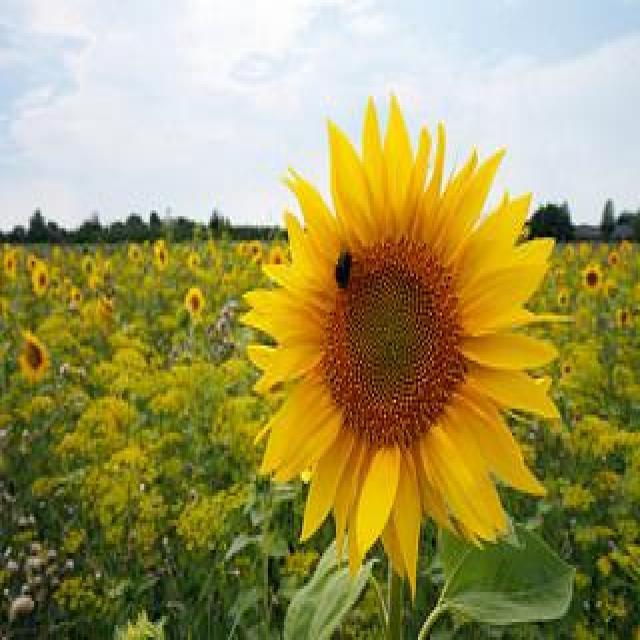sunflower: (241, 93, 574, 606), (20, 327, 47, 380), (33, 262, 49, 295), (584, 264, 602, 293), (154, 241, 170, 272), (187, 286, 203, 316), (268, 247, 284, 265), (128, 242, 142, 261), (4, 250, 14, 273), (608, 252, 620, 268), (250, 241, 260, 260)
